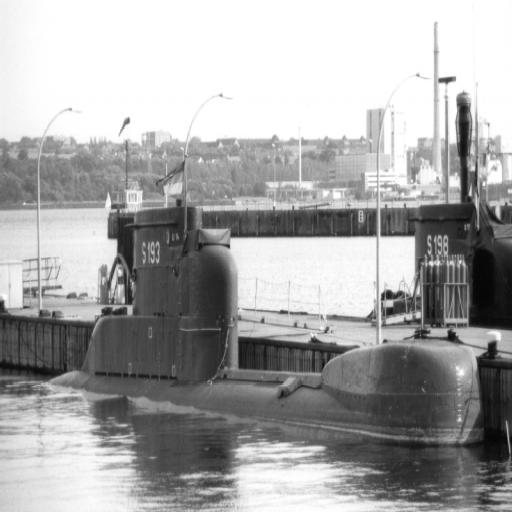submarine: (48, 206, 491, 445)
